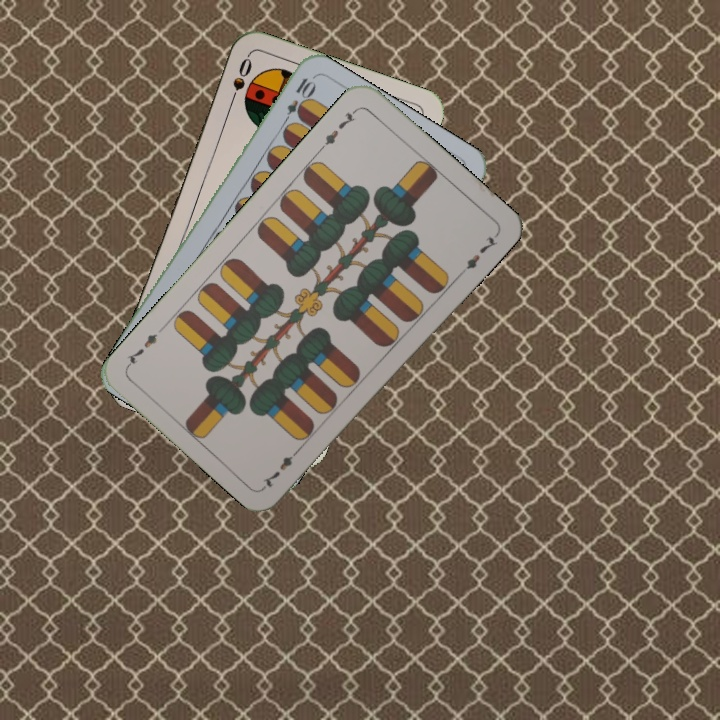E10: (278, 73, 317, 129)
E7: (258, 443, 304, 490), (316, 104, 360, 152)
SO: (225, 54, 255, 110)
